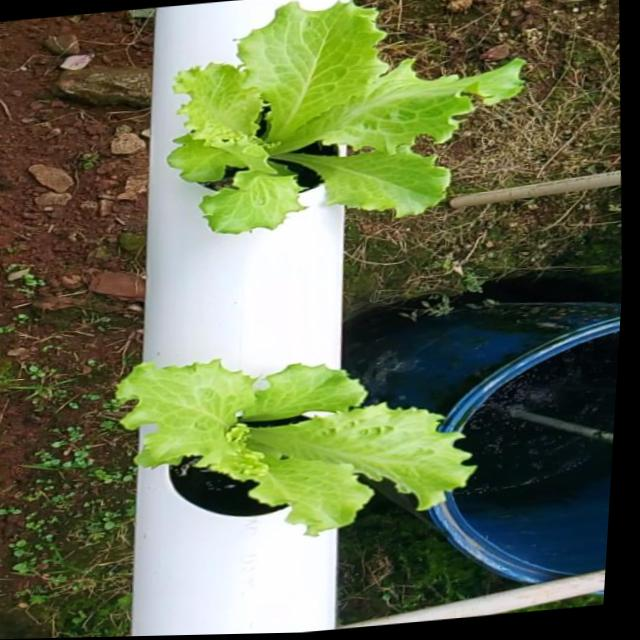Baby: (169, 5, 524, 240), (119, 371, 483, 548)
